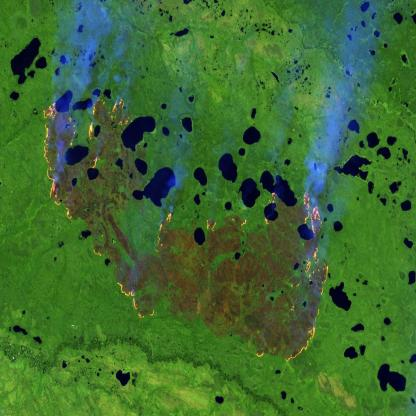fire: (281, 190, 334, 378), (40, 102, 72, 224), (77, 91, 134, 150), (112, 277, 155, 317), (194, 213, 250, 239), (258, 190, 280, 229), (154, 212, 172, 255), (87, 153, 102, 181), (89, 241, 108, 262), (242, 342, 264, 359)
